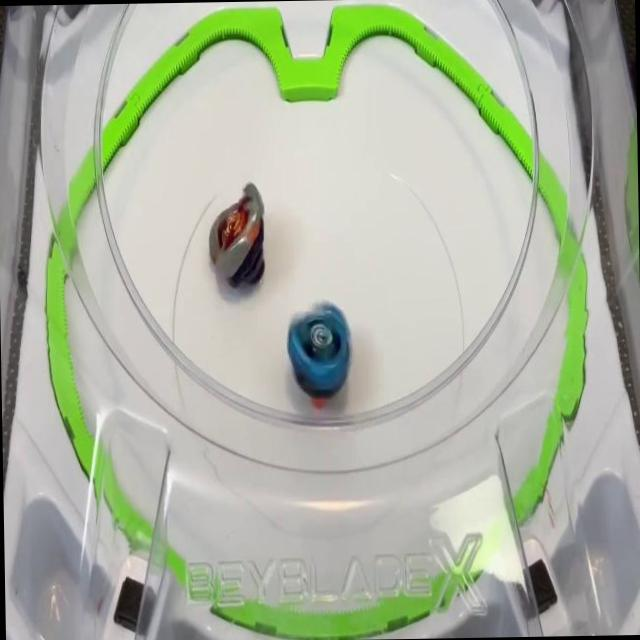Beyblade: (284, 301, 352, 403), (206, 182, 266, 290)
